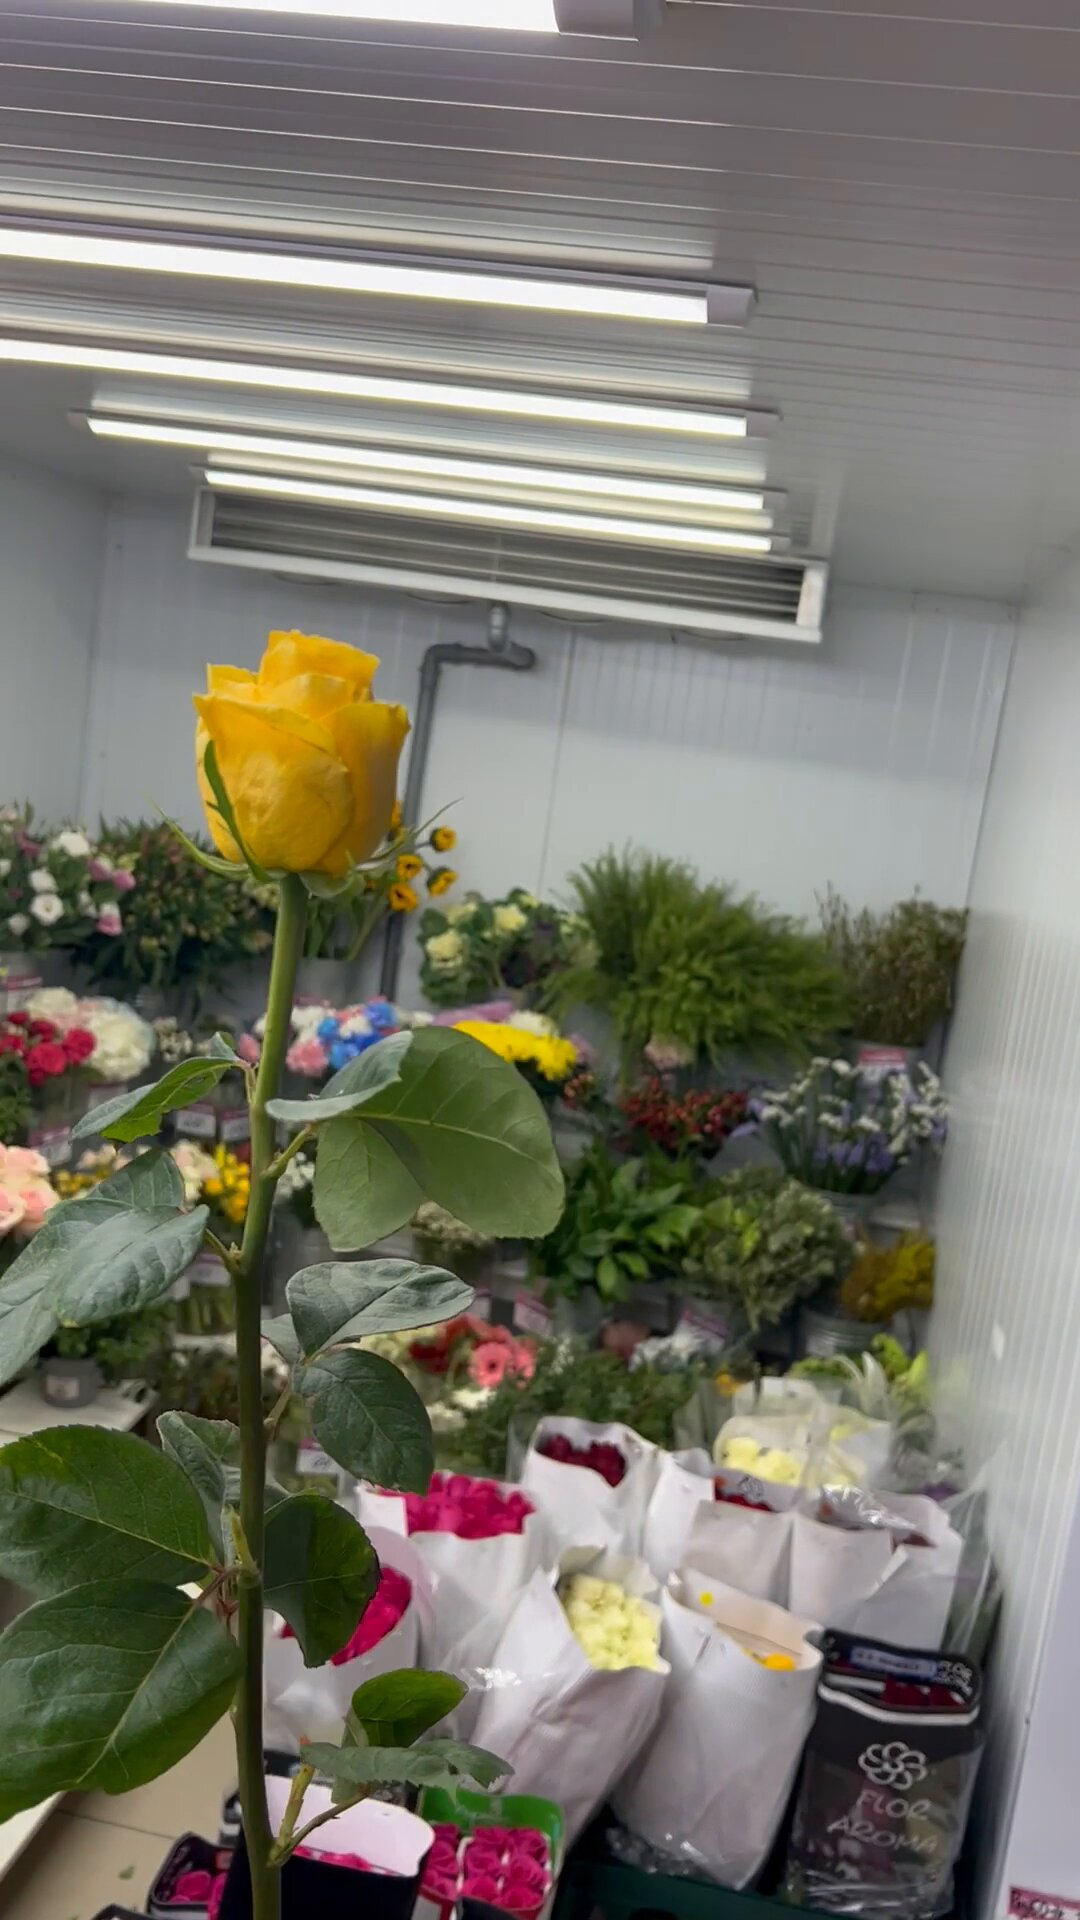rose: (47, 616, 537, 1912)
